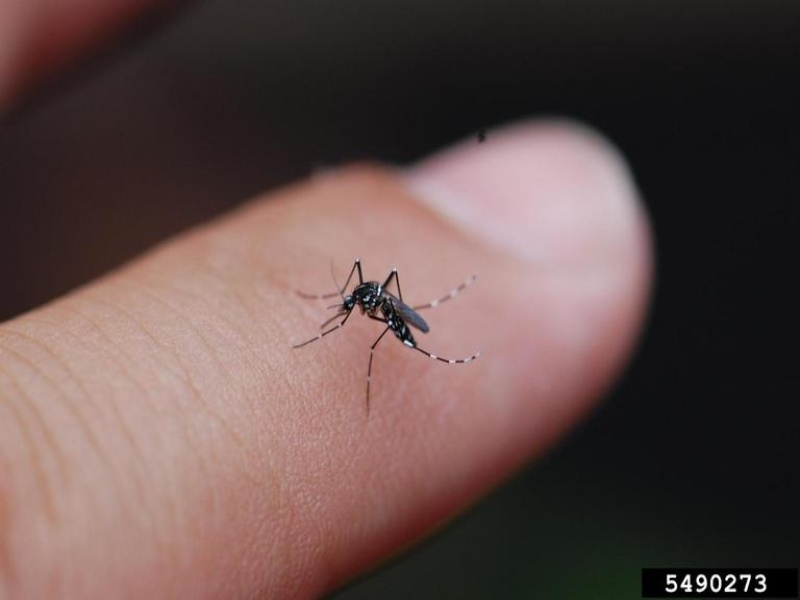dengue_mosquito: (317, 259, 484, 370)
